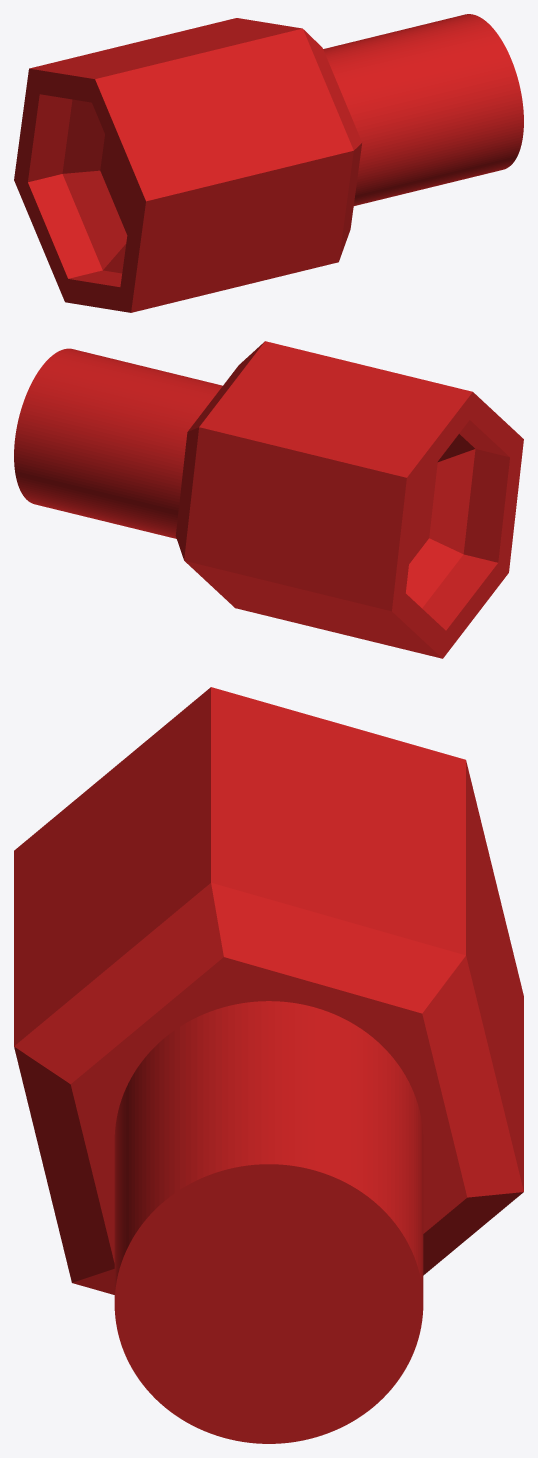
Rendered from 3_colored.obj.
3 renders of one model, top to bottom at view 1: azimuth 30°, elevation 25°; view 2: azimuth 150°, elevation 25°; view 3: azimuth 270°, elevation 25°, orthographic. The views are drawn at different scales.
Bounding box in the file's own units: 0.035 × 0.0203 × 0.0198.
